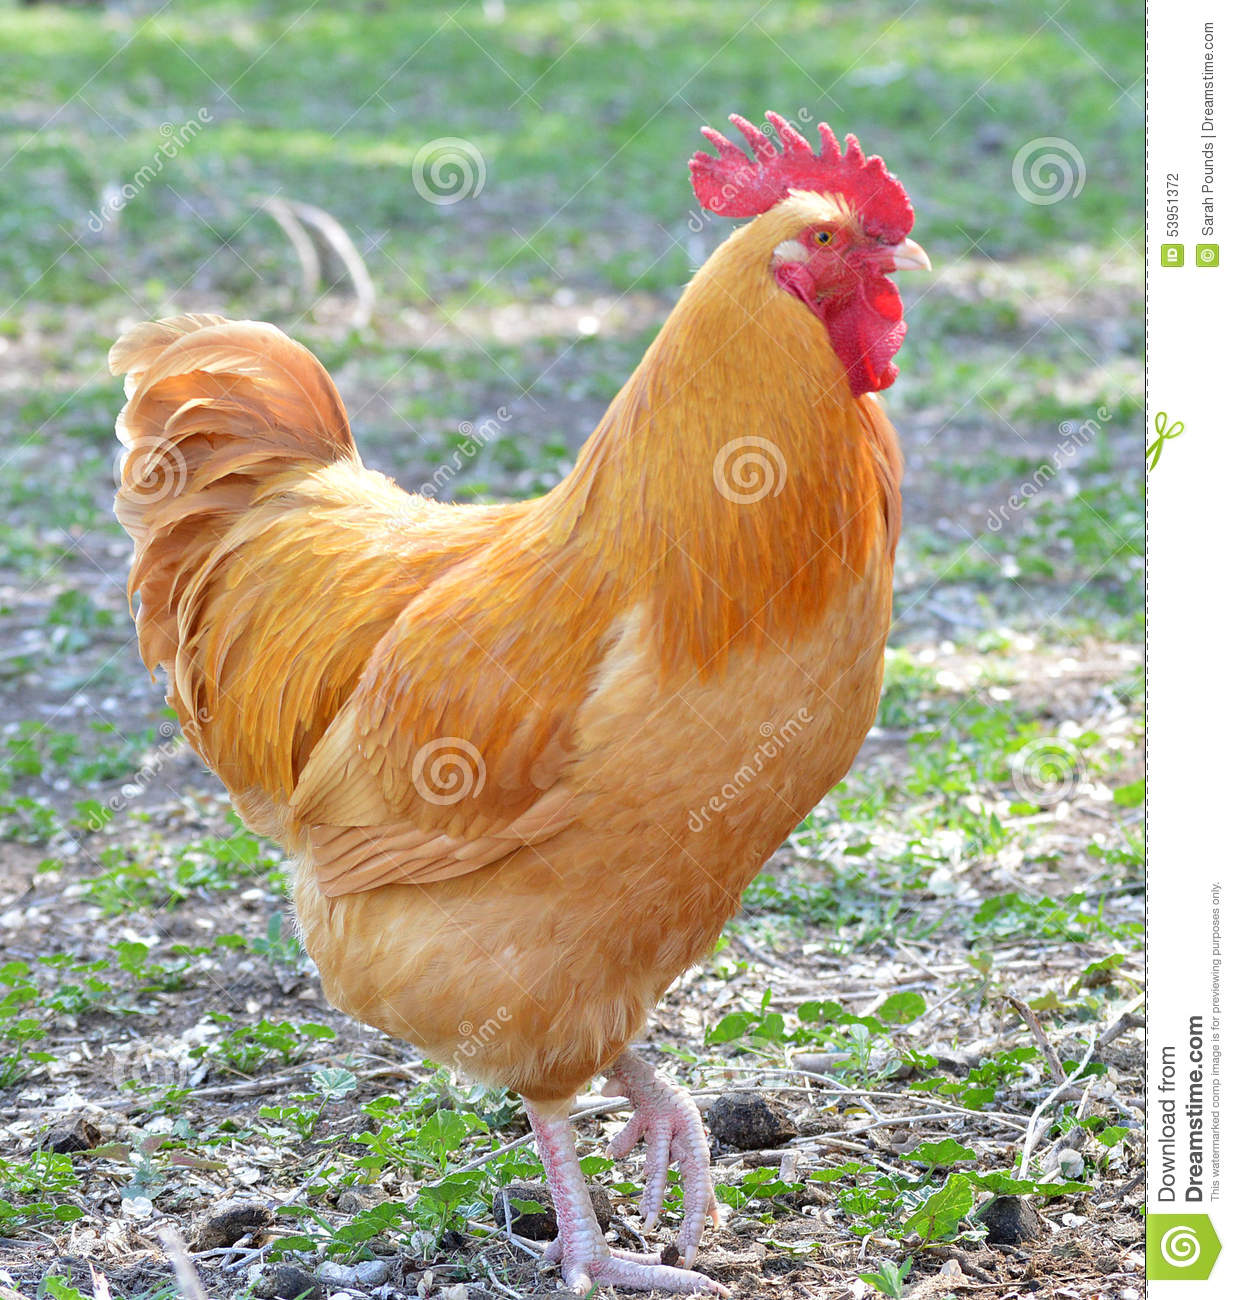buff: (181, 98, 959, 1066)
